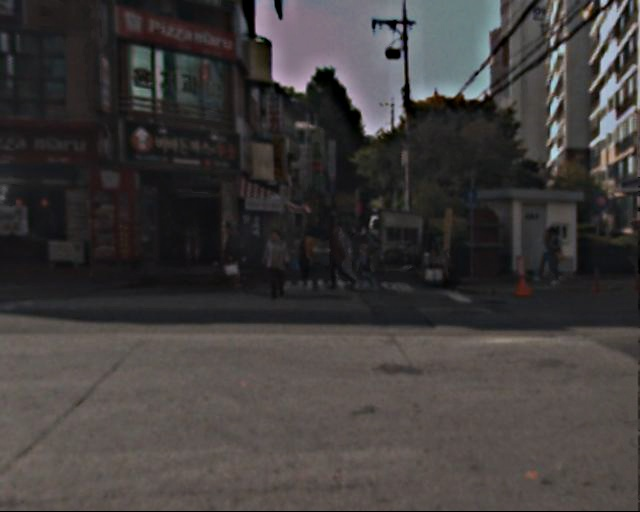person: (226, 213, 256, 286), (330, 224, 358, 292), (266, 224, 293, 290), (541, 223, 567, 287), (296, 223, 318, 277), (358, 223, 383, 267), (360, 244, 380, 292)
